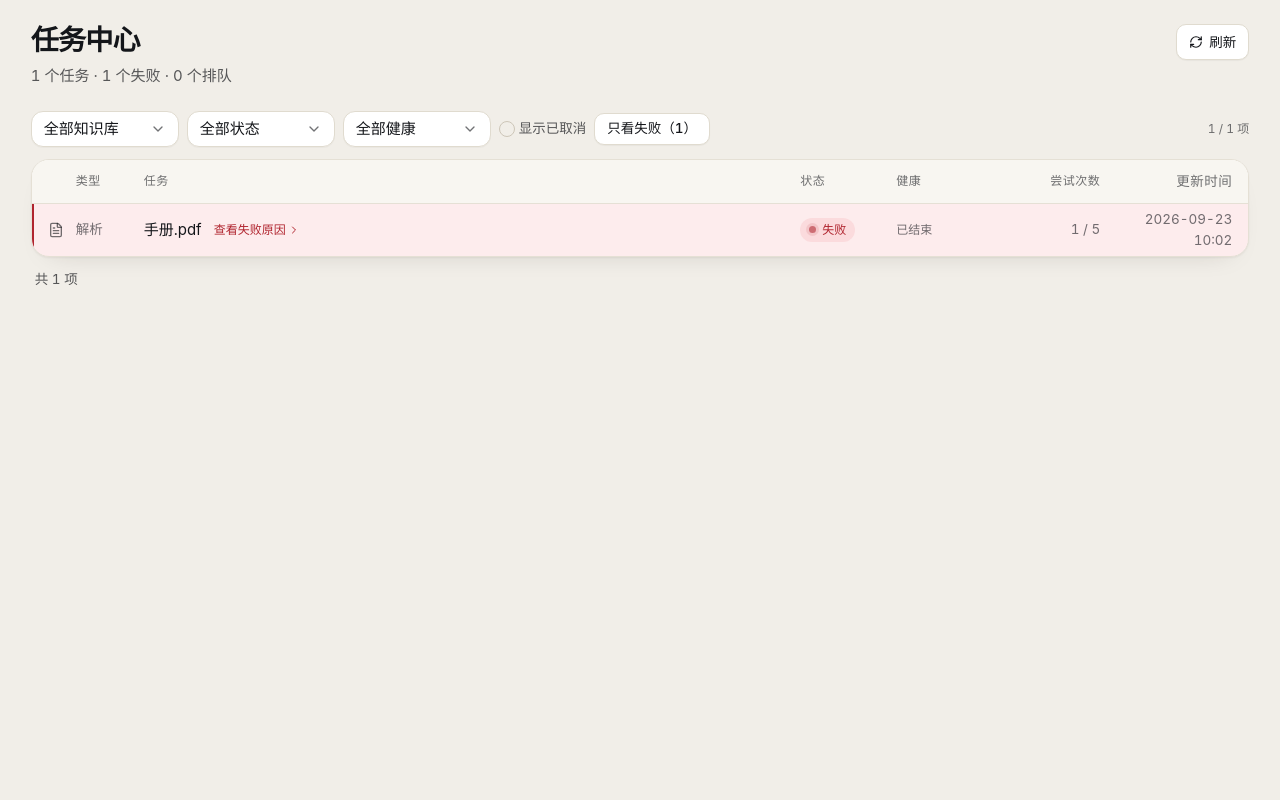
Test case: 任务中心 › 点开详情用 pre 显示失败原文（可选中复制，而不是 title 属性）
The width and height of the screenshot is (1280, 800).
Click the button with aria-label "查看任务详情": (173, 230) [136,204,796,256]
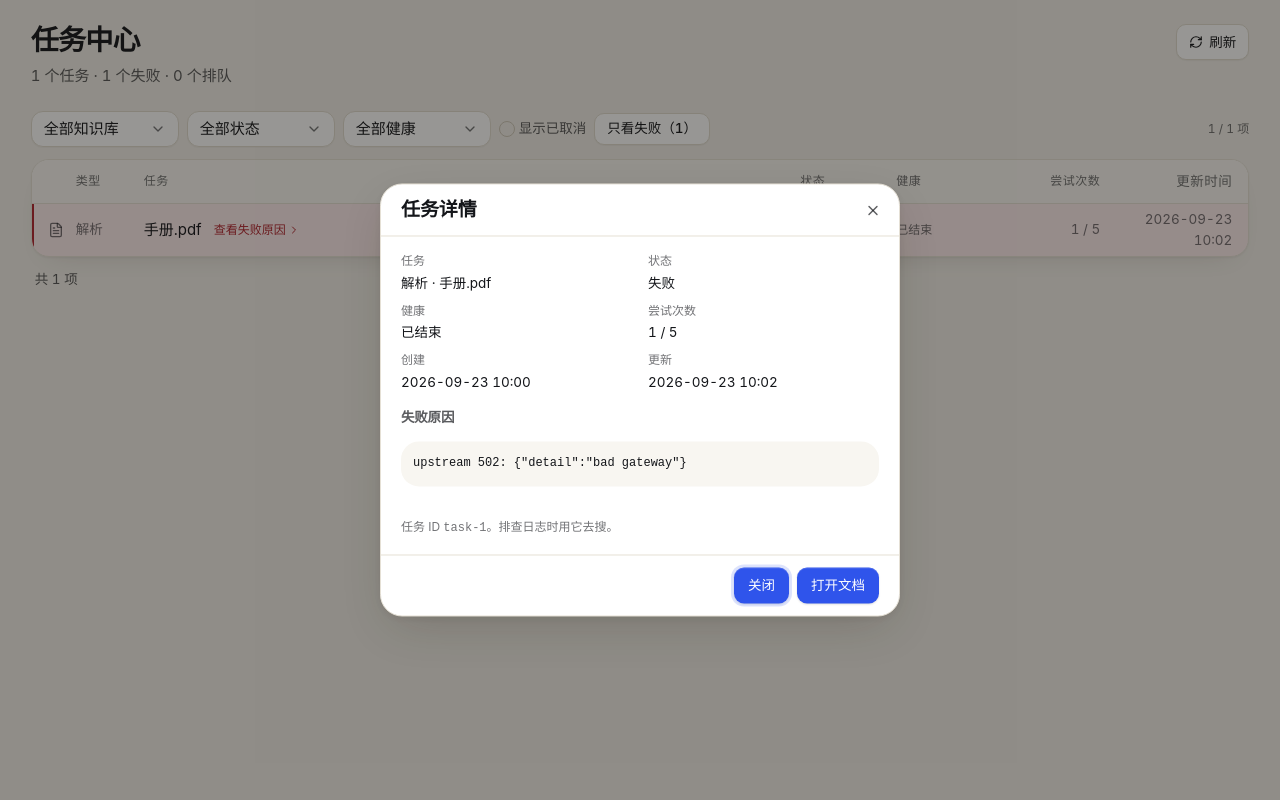
Result: the heading "失败原因" is shown at [401,409,454,425]
Result: the text "upstream 502: {\"detail\":\"bad gateway\"}" is shown at [401,442,879,487]
Result: the text "task-1" is shown at [443,522,486,536]
